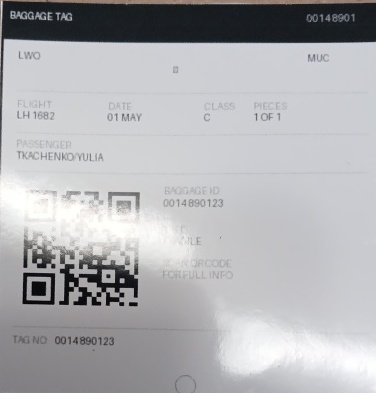LPN_bottom: (50, 330, 118, 349)
LPN_right: (159, 196, 227, 211)
